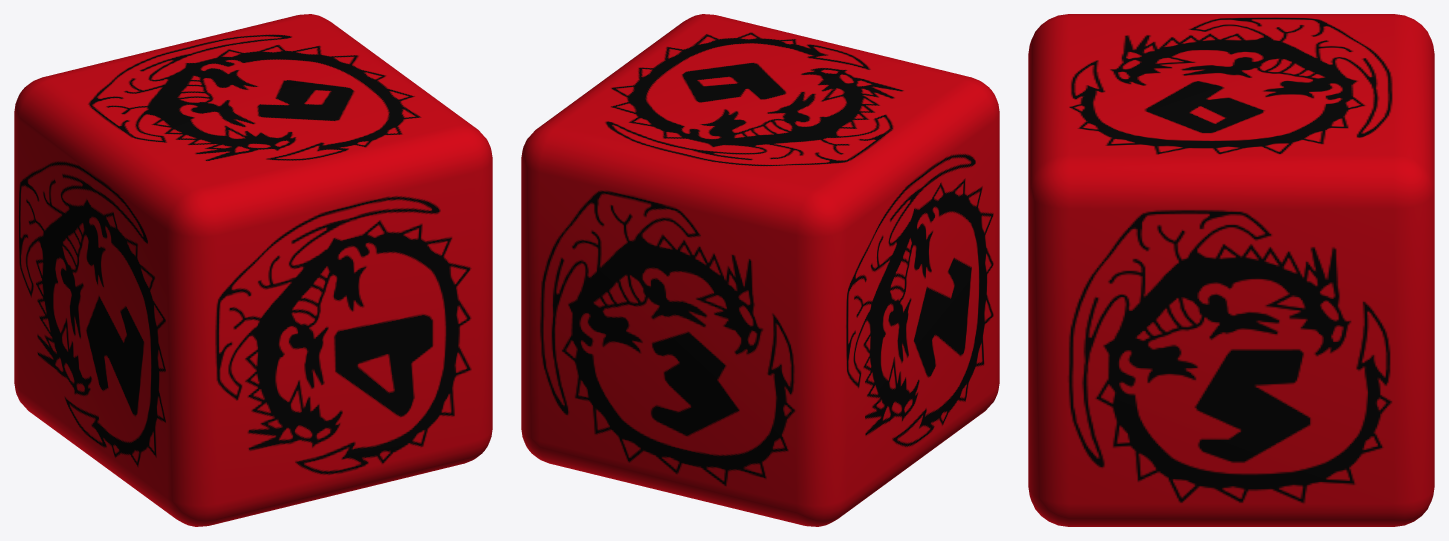
The model's file is d6_dragons_SDRA04.glb.
3 renders of one model, left to right at view 1: azimuth 30°, elevation 25°; view 2: azimuth 150°, elevation 25°; view 3: azimuth 270°, elevation 25°, orthographic. The views are drawn at different scales.
Visible parts, largest first — view 1: Cube.002; view 2: Cube.002; view 3: Cube.002.
Boxes of the visible parts, <box> form: Cube.002: <box>14,14,492,526</box>; Cube.002: <box>521,14,999,526</box>; Cube.002: <box>1028,14,1434,526</box>.
Bounding box in the file's own units: 104 × 104 × 104.
1 material, 1 textured.
